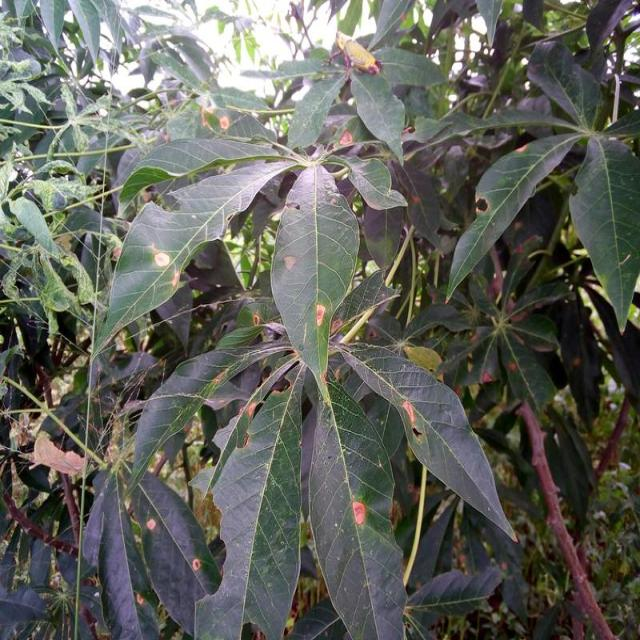cassava leaf: (338, 339, 520, 542), (193, 374, 304, 638), (308, 377, 409, 638), (270, 161, 362, 396), (569, 132, 640, 334)
